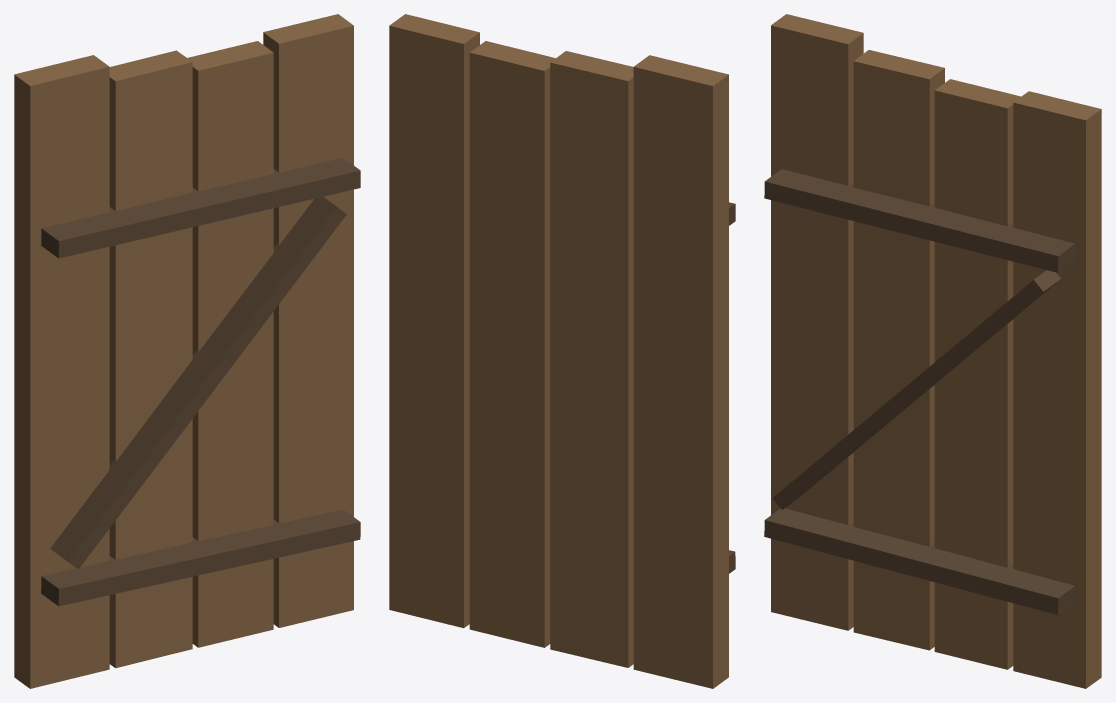
File: work-door-leaf.glb
3 renders of one model, left to right at view 1: azimuth 30°, elevation 25°; view 2: azimuth 150°, elevation 25°; view 3: azimuth 330°, elevation 25°, orthographic. The views are drawn at different scales.
Visible parts, largest first — view 1: work-door-leaf; view 2: work-door-leaf; view 3: work-door-leaf.
Part boxes in pixels (x1,y1,x2,y2): work-door-leaf: [14, 14, 360, 688]; work-door-leaf: [389, 14, 735, 688]; work-door-leaf: [764, 14, 1101, 688].
Bounding box in the file's own units: 1.17 × 2.08 × 0.2164.
1 material, 1 textured.
